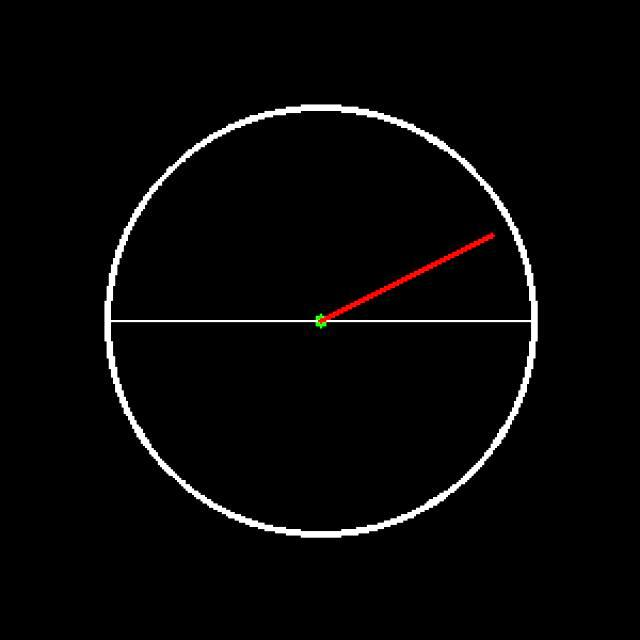Needle_Tip: (477, 214, 508, 261)
Needle_base: (285, 299, 358, 361)
